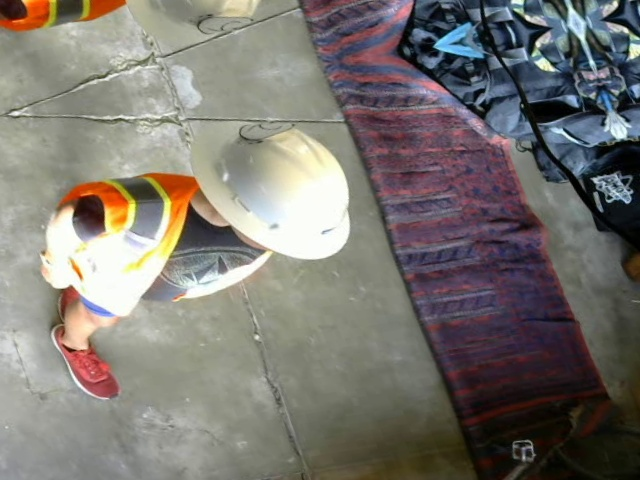two: (236, 115, 298, 142)
